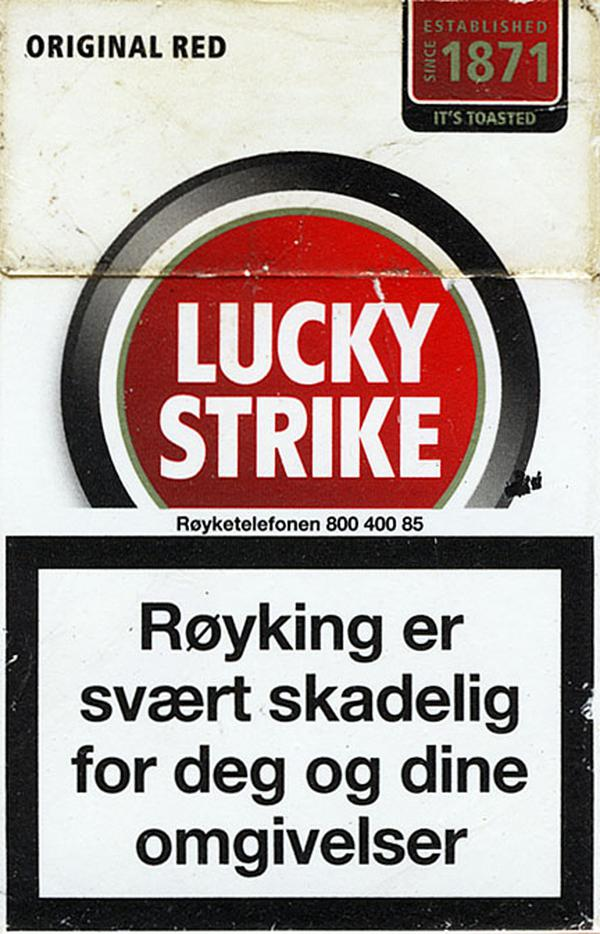lucky_strike_red: (8, 5, 593, 934)
